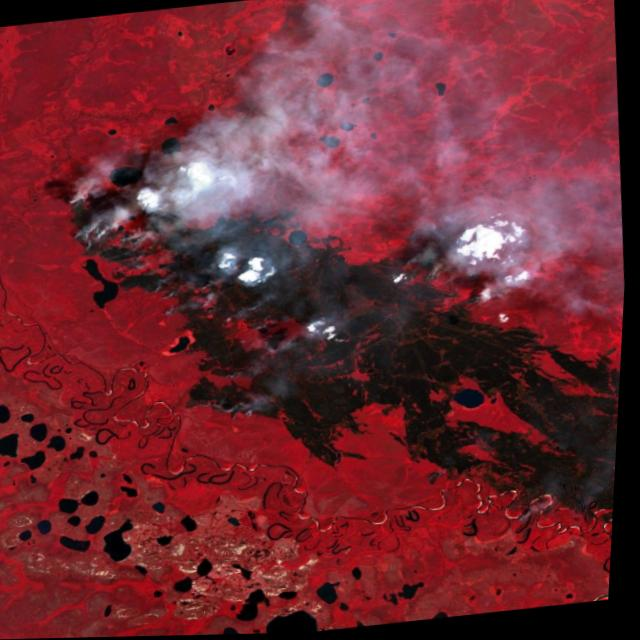fire: (38, 164, 300, 448), (395, 225, 501, 319)
